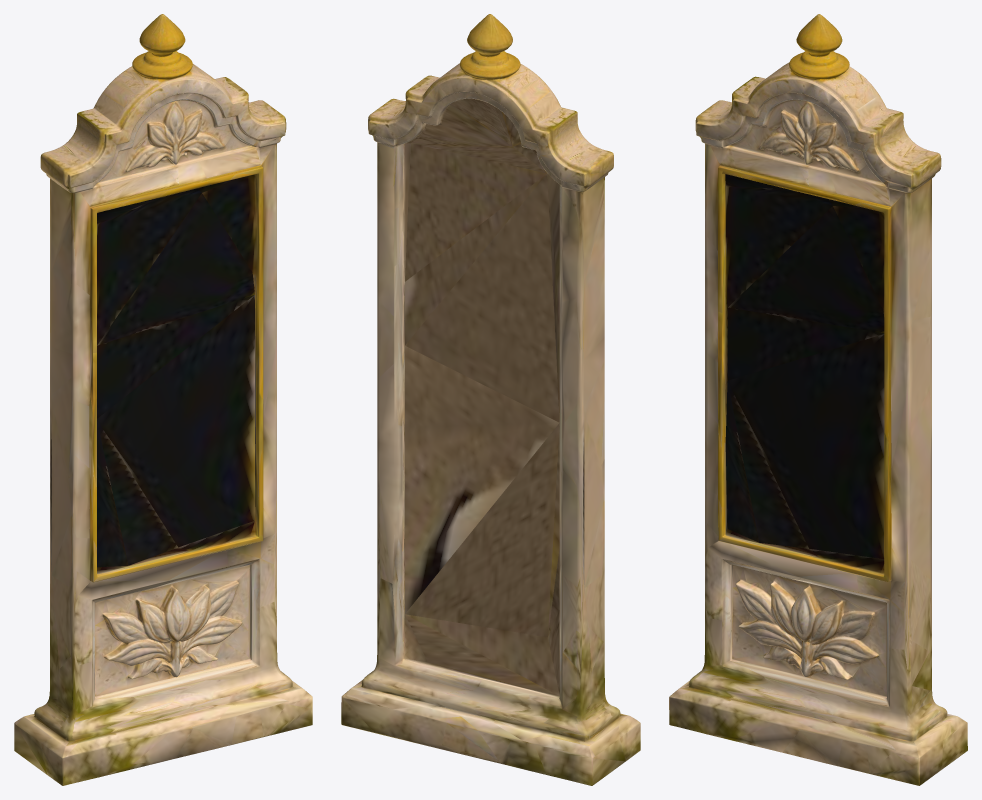
File: totem.glb
3 renders of one model, left to right at view 1: azimuth 30°, elevation 25°; view 2: azimuth 150°, elevation 25°; view 3: azimuth 330°, elevation 25°, orthographic.
Parts seen in each view (by area): view 1: Mesh_0; view 2: Mesh_0; view 3: Mesh_0.
Boxes of the visible parts, x1=… form: Mesh_0: x1=14, y1=14, x2=312, y2=785; Mesh_0: x1=341, y1=14, x2=640, y2=785; Mesh_0: x1=669, y1=14, x2=967, y2=785.
Bounding box in the file's own units: 0.6901 × 1.9 × 0.2323.
Materials: 1 (1 with a texture image).
